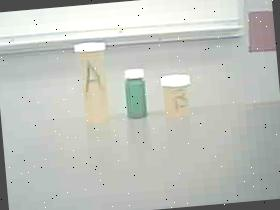Bottle A: (67, 36, 120, 134)
Bottle B: (158, 70, 197, 121)
Bottle C: (118, 64, 156, 124)
